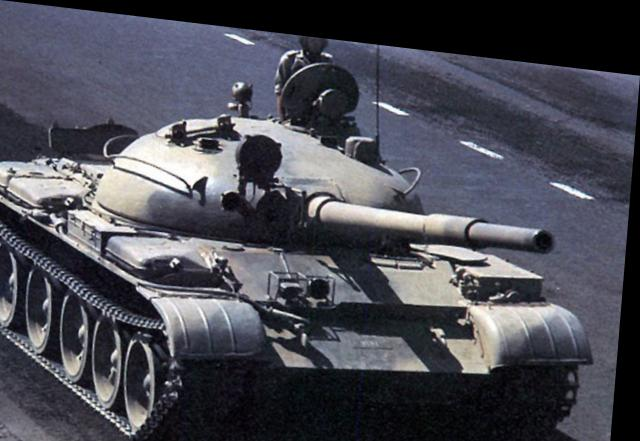other: (272, 26, 331, 91)
tank: (0, 73, 599, 440)
